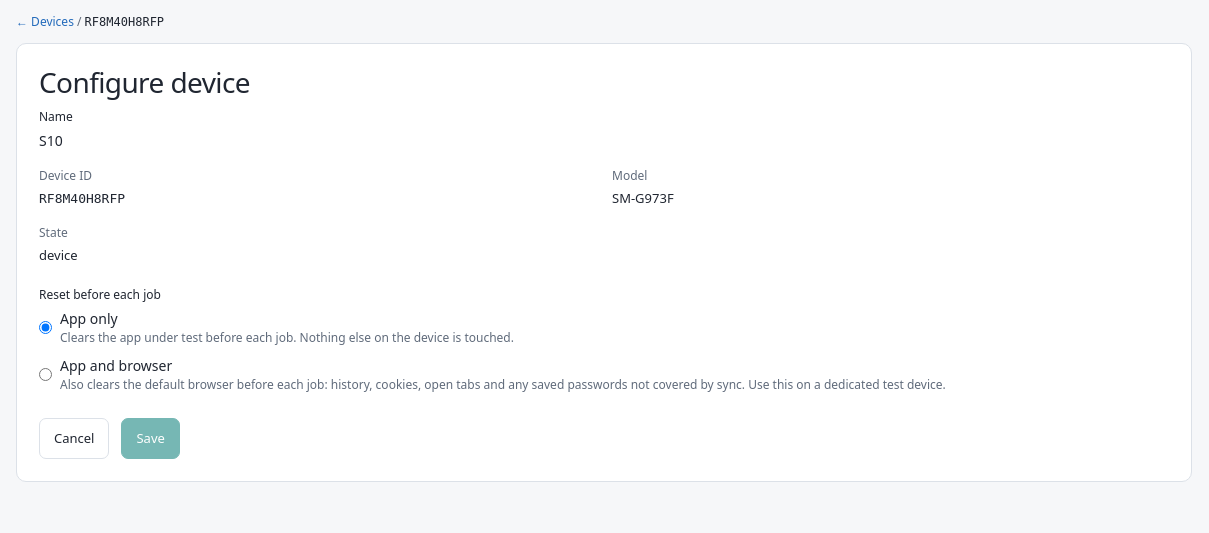
Test: a failed save surfaces the server's message
The width and height of the screenshot is (1209, 533).
Replace the text in the field labelled "Name" with "Desk phone" at (604, 140), box [39,130,1169,151]
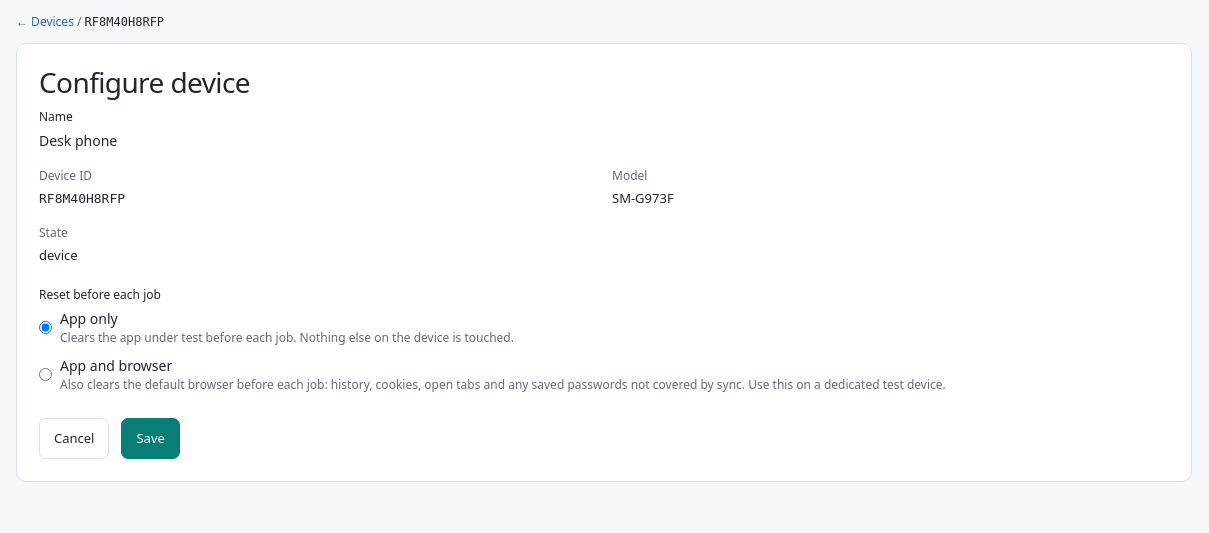
Click the button "Save" at (151, 438), box [122,418,180,459]
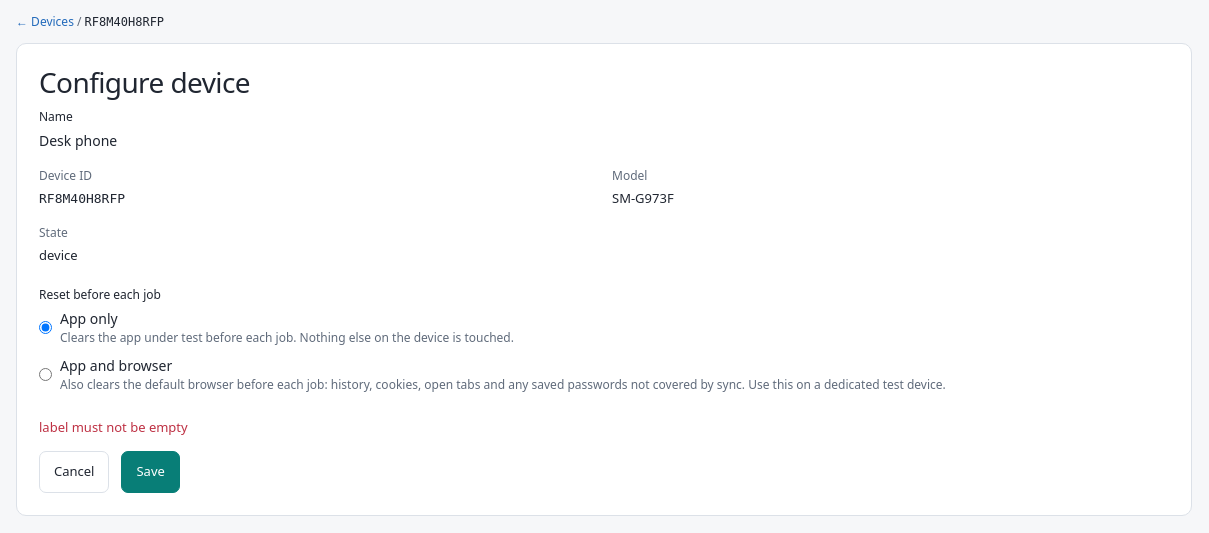
Result: the message reads "label must not be empty" at [39,418,188,436]
